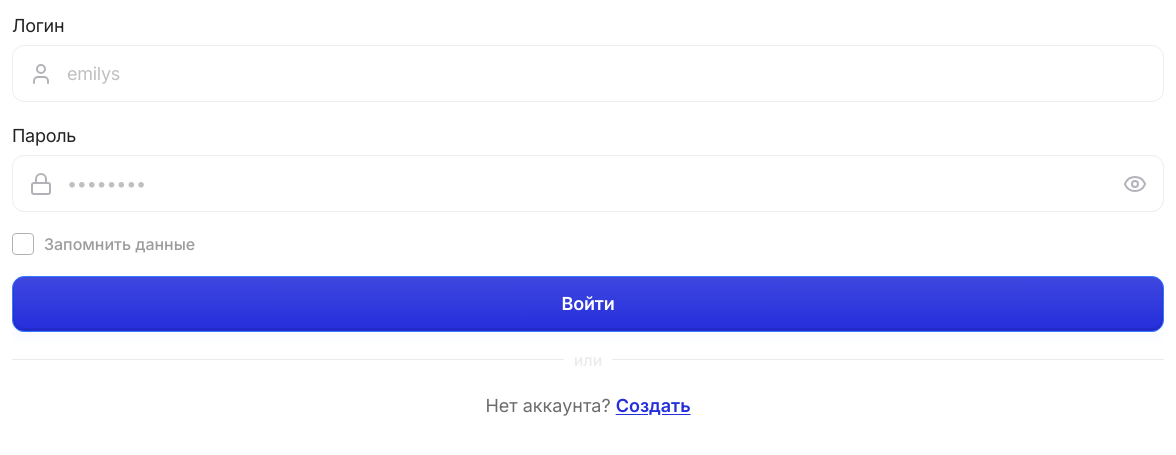
LoginForm › shows only password error when only username is filled
Type "admin" into the field with placeholder "emilys" at (607, 74), box top-left (67, 60), bottom-right (1147, 87)
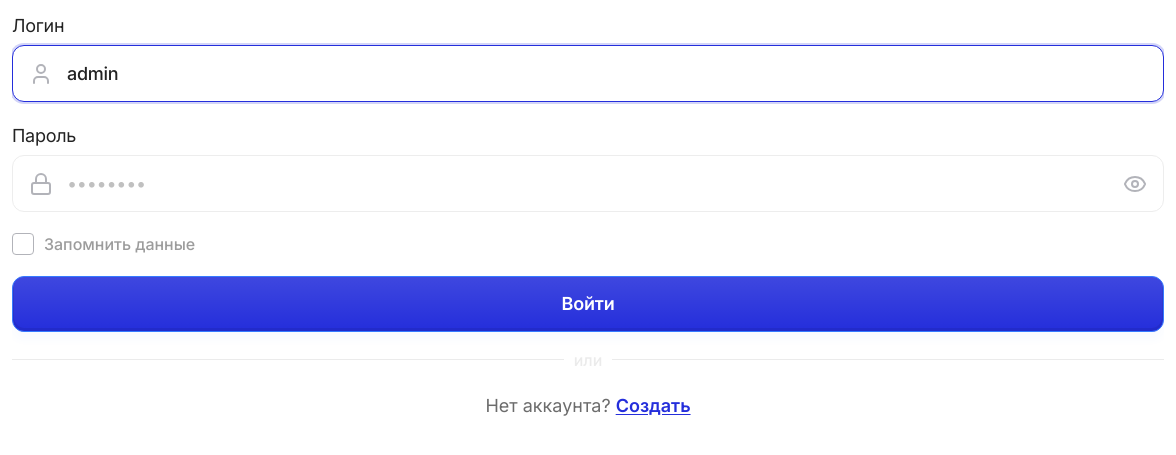
Click the button "Войти" at (588, 304), box top-left (12, 276), bottom-right (1164, 332)
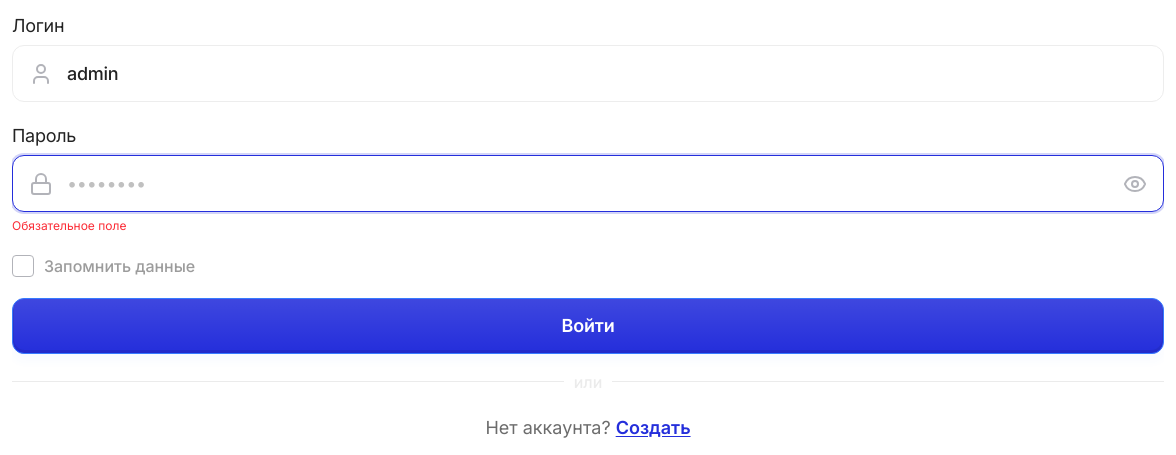
expect the text "Обязательное поле" is shown once: met, box top-left (12, 218), bottom-right (126, 233)
